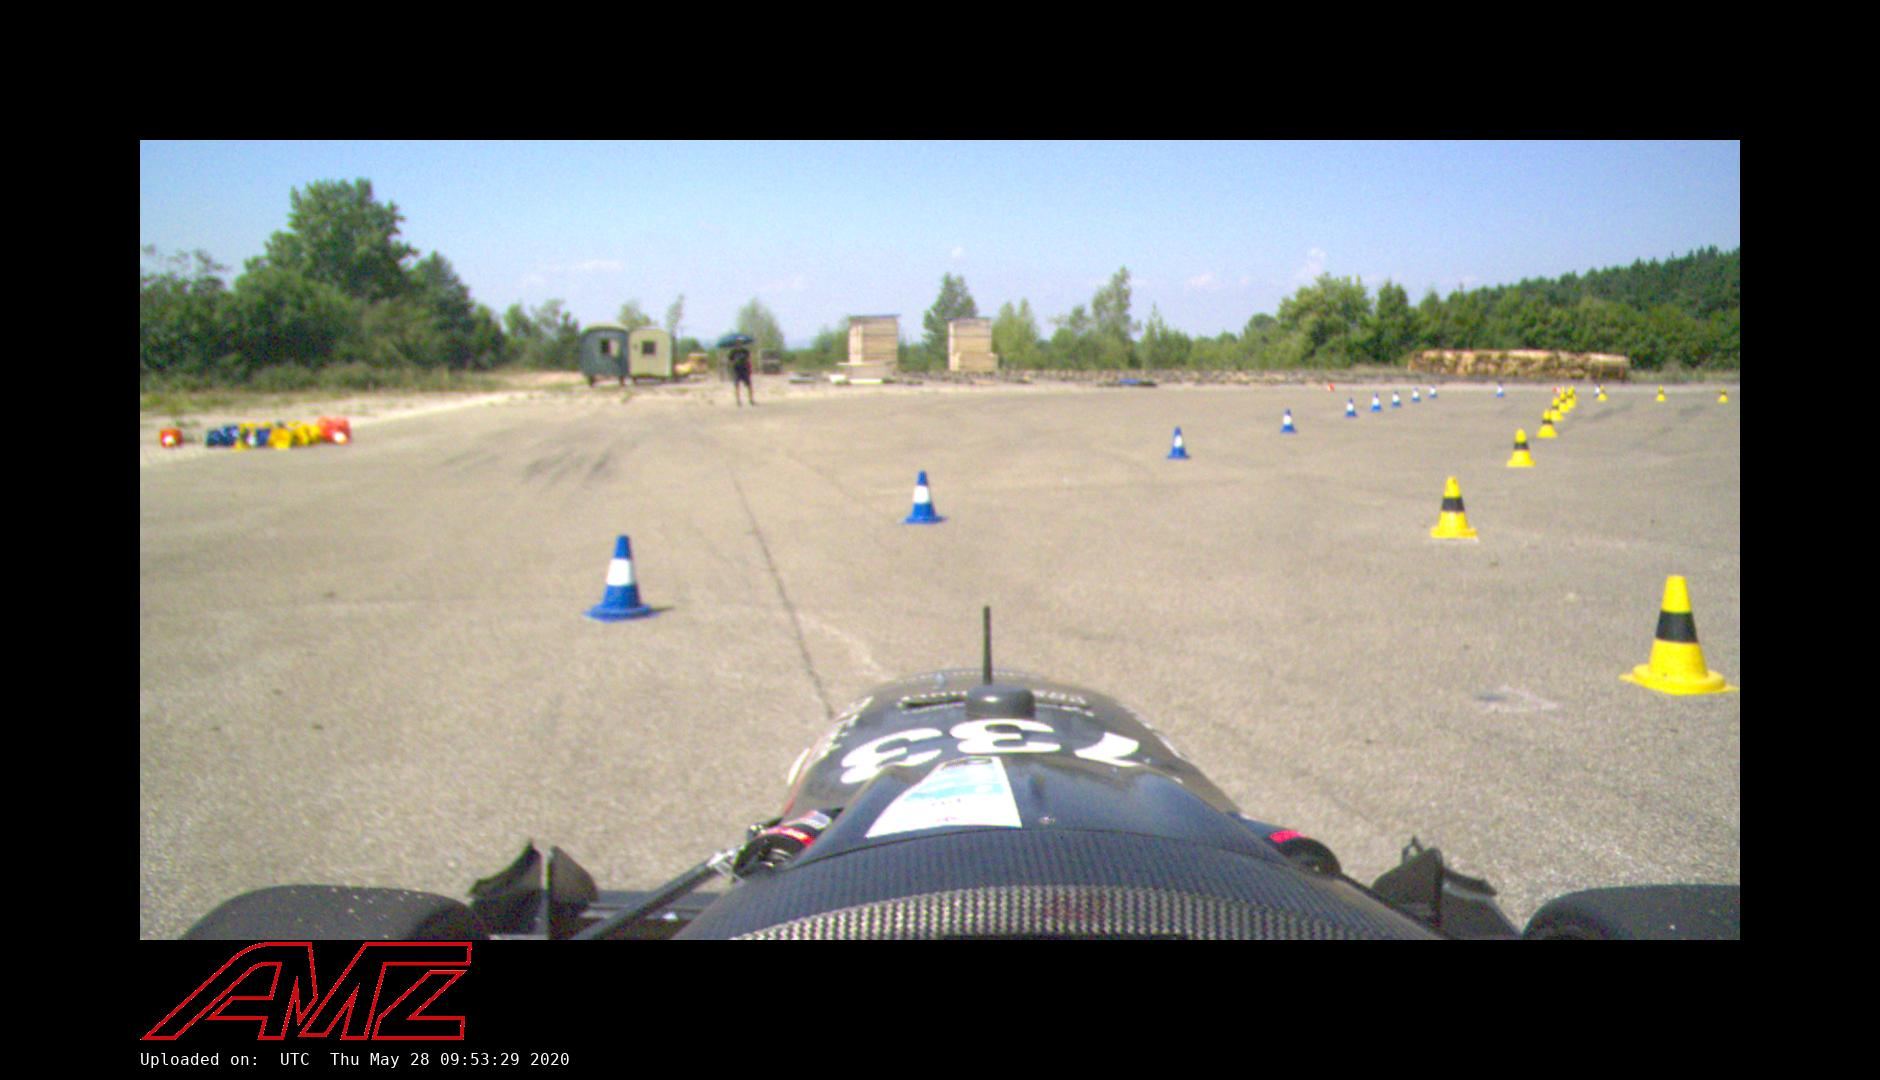blue_cone: (580, 534, 659, 624), (900, 470, 946, 524), (1166, 428, 1190, 460), (1280, 410, 1298, 434), (1344, 398, 1358, 419), (1370, 393, 1383, 412), (1391, 391, 1404, 407), (1411, 388, 1422, 402), (1495, 382, 1506, 397), (1429, 384, 1437, 398)
yellow_cone: (1617, 575, 1739, 696), (1429, 475, 1477, 539), (1507, 428, 1535, 466), (1537, 410, 1558, 437), (1549, 397, 1564, 421), (1558, 394, 1570, 412), (1655, 386, 1667, 400), (1596, 386, 1608, 400), (1568, 391, 1577, 407), (1719, 388, 1728, 402)
